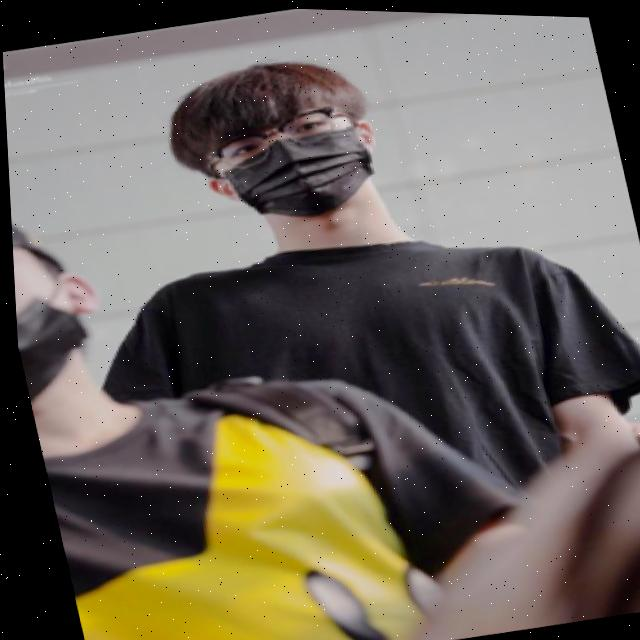Mask: (183, 112, 405, 238)
